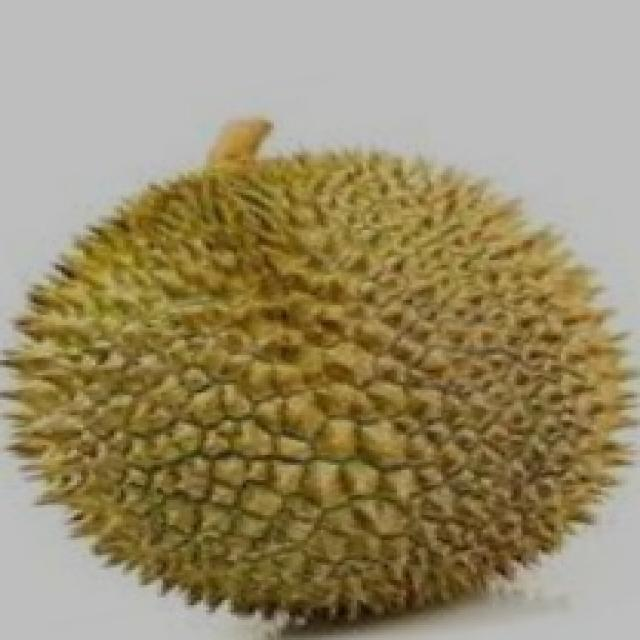fruit: (0, 275, 372, 640), (307, 262, 640, 639)
